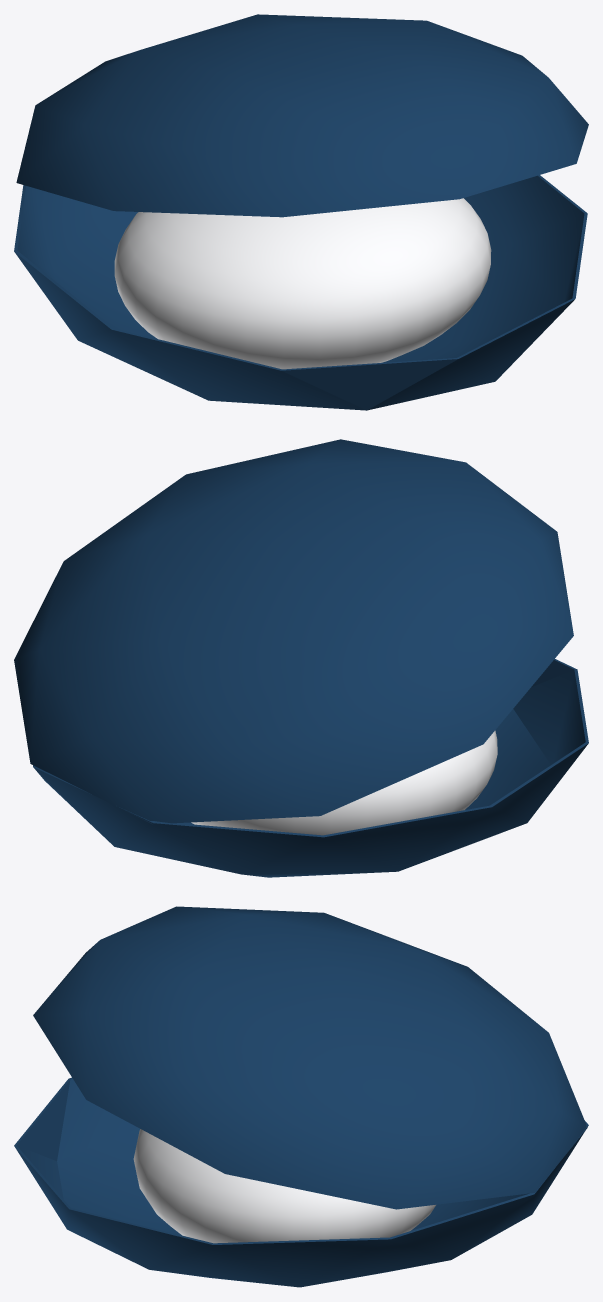
Rendered from Clam.fbx.
The picture shows the model from 3 angles, top to bottom: view 1: azimuth 30°, elevation 25°; view 2: azimuth 150°, elevation 25°; view 3: azimuth 270°, elevation 25°; orthographic projection. The views are drawn at different scales.
Visible parts, largest first — view 1: Icosphere.001, Sphere; view 2: Icosphere.001, Sphere; view 3: Icosphere.001, Sphere.
Boxes of the visible parts, box(x1,y1,x2,y2) form: Icosphere.001: box(14, 14, 588, 410); Sphere: box(114, 198, 491, 369); Icosphere.001: box(14, 439, 588, 877); Sphere: box(191, 730, 497, 835); Icosphere.001: box(14, 906, 588, 1287); Sphere: box(133, 1129, 435, 1243).
Size of the model in its own units: 101 by 63.84 by 115.
